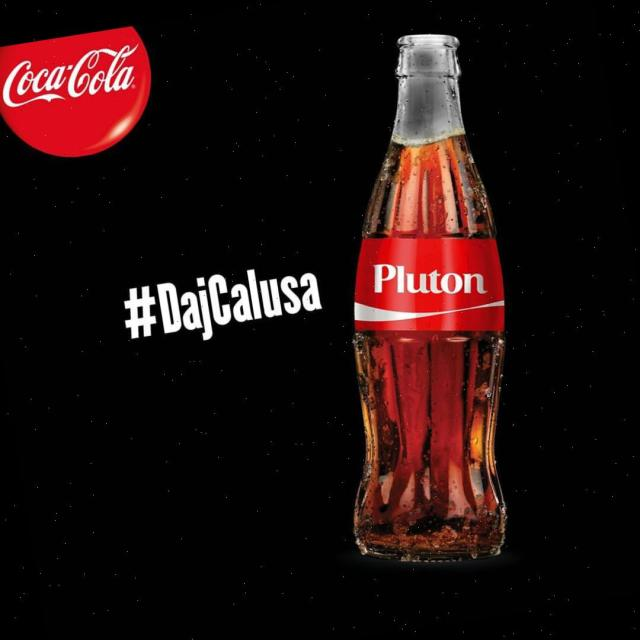coca-cola: (274, 19, 548, 580)
